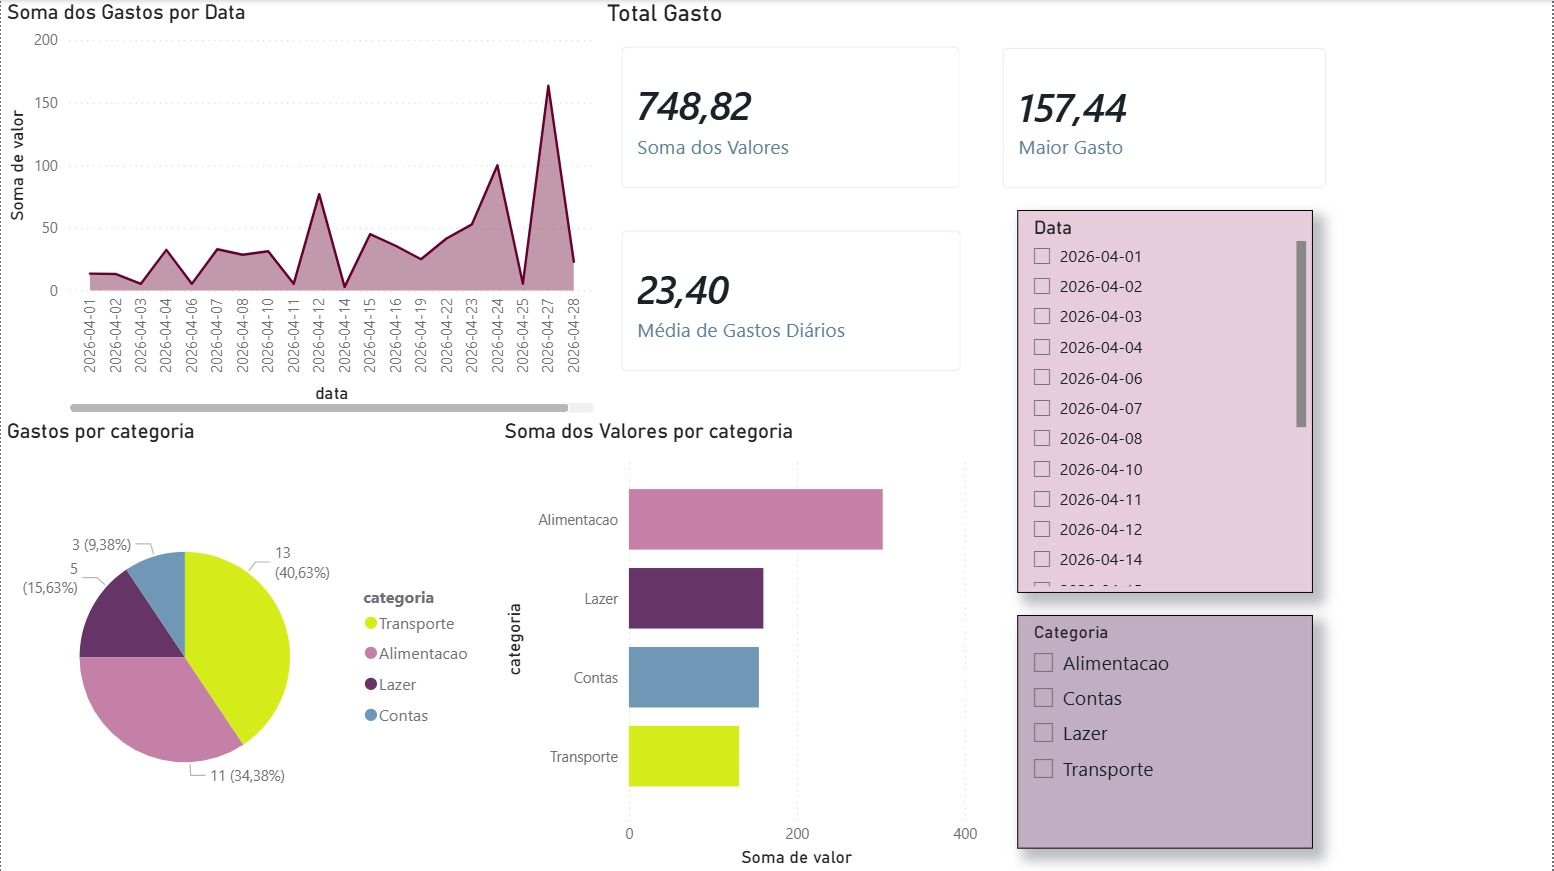

The dashboard page shown, as its layout file describes it:
{"tool":"powerbi","page":{"name":"Dashboard análise de gastos","canvas":[1280,720],"ordinal":0},"visuals":[{"type":"pieChart","title":"Gastos por categoria","fields":{"Category":["gastos.categoria"],"Y":["CountNonNull(gastos.valor)"]},"box":[0,345.8,399.8,374.6],"z":1000},{"type":"clusteredBarChart","title":"Soma dos Valores por categoria","fields":{"Category":["gastos.categoria"],"Y":["Sum(gastos.valor)"]},"box":[410.7,345.8,399.8,374.6],"z":1001},{"type":"lineChart","title":"Soma dos Gastos por Data","fields":{"Category":["gastos.data"],"Y":["Sum(gastos.valor)"]},"box":[0,0,494.7,345.8],"z":1002},{"type":"cardVisual","title":"Total Gasto","fields":{"Data":["Sum(gastos.valor)"]},"box":[495.5,0,313.9,173.2],"z":1003},{"type":"cardVisual","fields":{"Data":["Avg(gastos.valor)"]},"box":[495.1,173.3,314.6,150.6],"z":1004},{"type":"cardVisual","fields":{"Data":["Max(gastos.valor)"]},"box":[809.3,22.8,301.8,150.3],"z":1005},{"type":"slicer","fields":{"Values":["gastos.categoria"]},"box":[838.2,507.5,244.1,192.4],"z":1006},{"type":"slicer","fields":{"Values":["gastos.data"]},"box":[838.2,173.2,244.1,316.3],"z":1007}]}

Visuals, with their boxes in screenshot pixels (x1, y1, x2, y2), scaled from the page's 1280x720 canvas onto the 1554x871 screenshot:
"Gastos por categoria" pieChart: (x1=0, y1=418, x2=485, y2=870)
"Soma dos Valores por categoria" clusteredBarChart: (x1=499, y1=418, x2=984, y2=870)
"Soma dos Gastos por Data" lineChart: (x1=0, y1=0, x2=601, y2=418)
"Total Gasto" cardVisual: (x1=602, y1=0, x2=983, y2=210)
cardVisual - Avg(gastos.valor): (x1=601, y1=210, x2=983, y2=392)
cardVisual - Max(gastos.valor): (x1=983, y1=28, x2=1349, y2=209)
slicer - gastos.categoria: (x1=1018, y1=614, x2=1314, y2=847)
slicer - gastos.data: (x1=1018, y1=210, x2=1314, y2=592)
